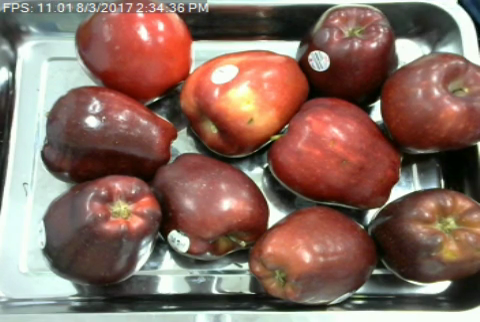Apple: (264, 94, 404, 210), (177, 46, 313, 160), (36, 170, 166, 286), (246, 203, 377, 311), (40, 84, 182, 183), (150, 149, 271, 264), (71, 2, 194, 110), (368, 184, 480, 287), (377, 48, 480, 155), (297, 3, 398, 104)
